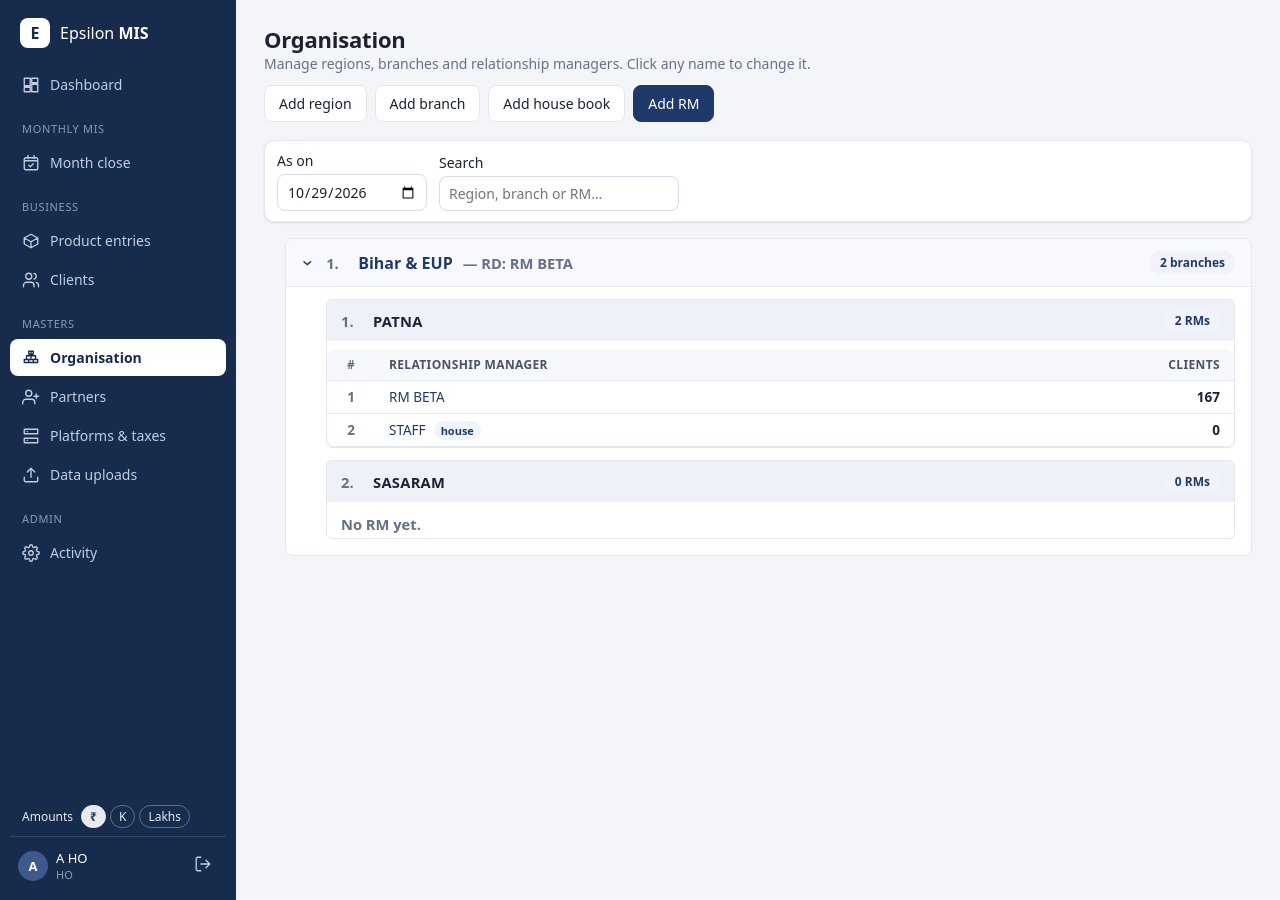
org › hands a leaving RM’s clients, partners and RD role to a new RM in one step
Click the button "RM BETA". click: click(417, 397)
box: [389,388,445,406]
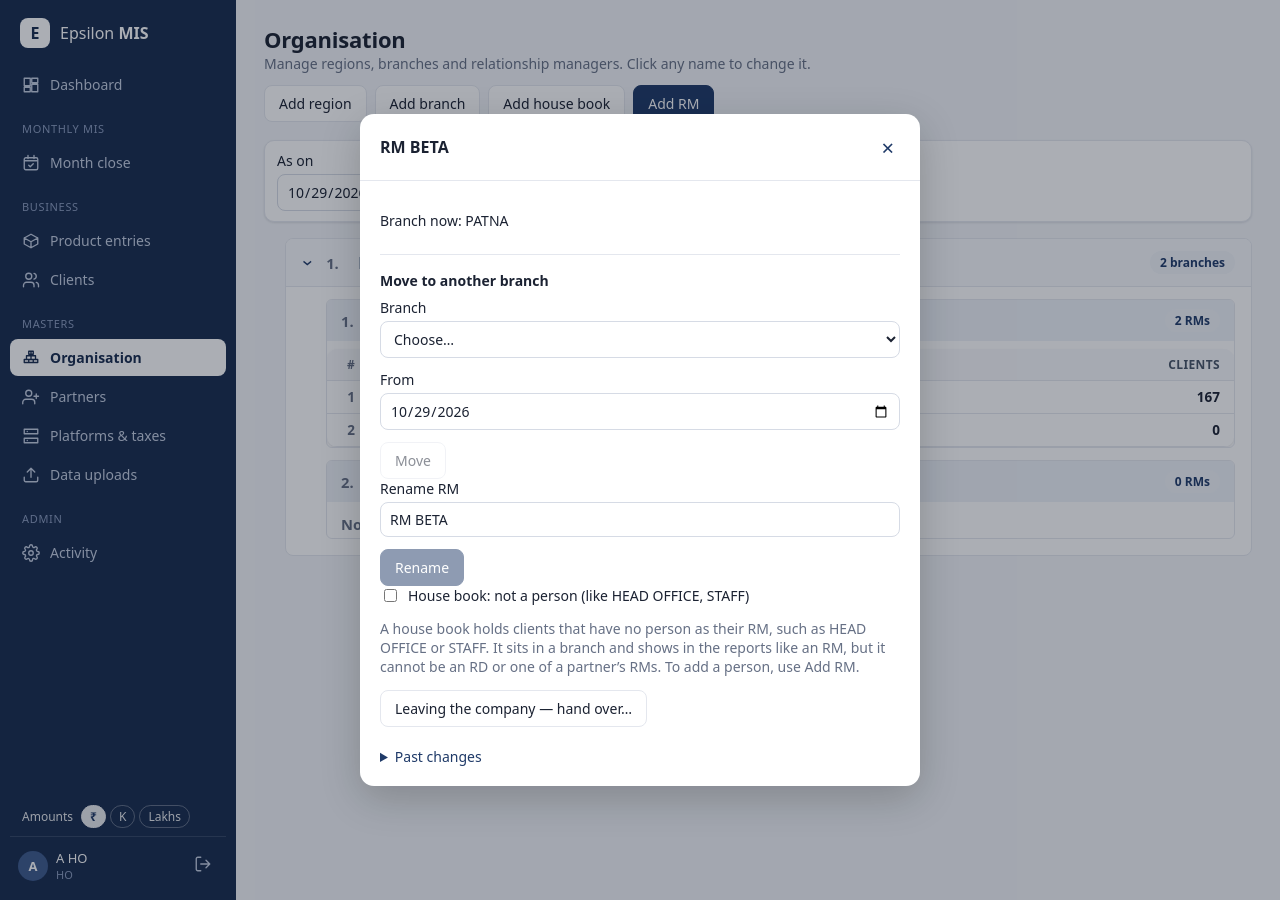
Click the button "Leaving the company — hand over…". click: click(514, 708)
box: [380,690,647,727]
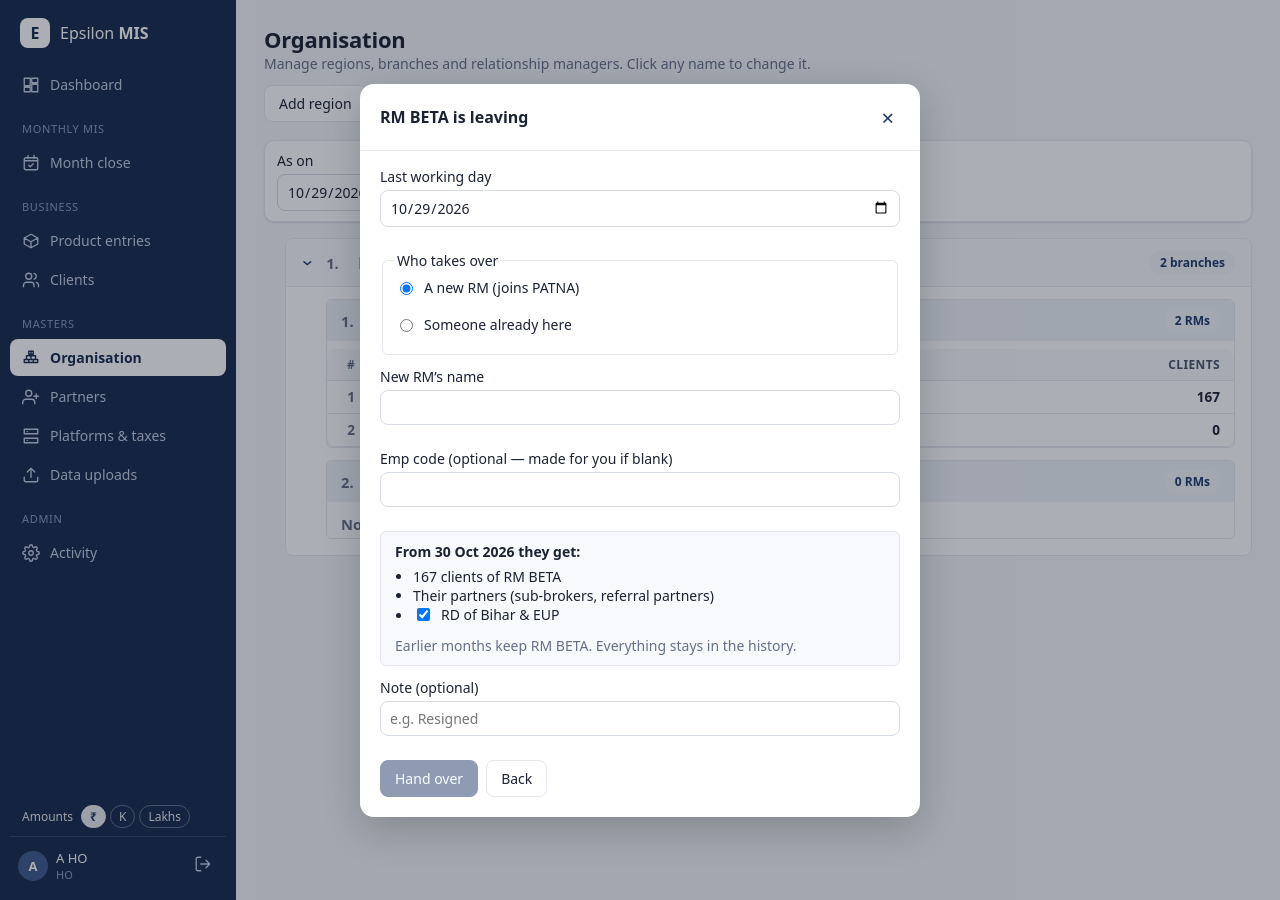
Type "2026-10-15" into the date field labelled "Last working day". click: (640, 208)
box: [380,190,900,226]
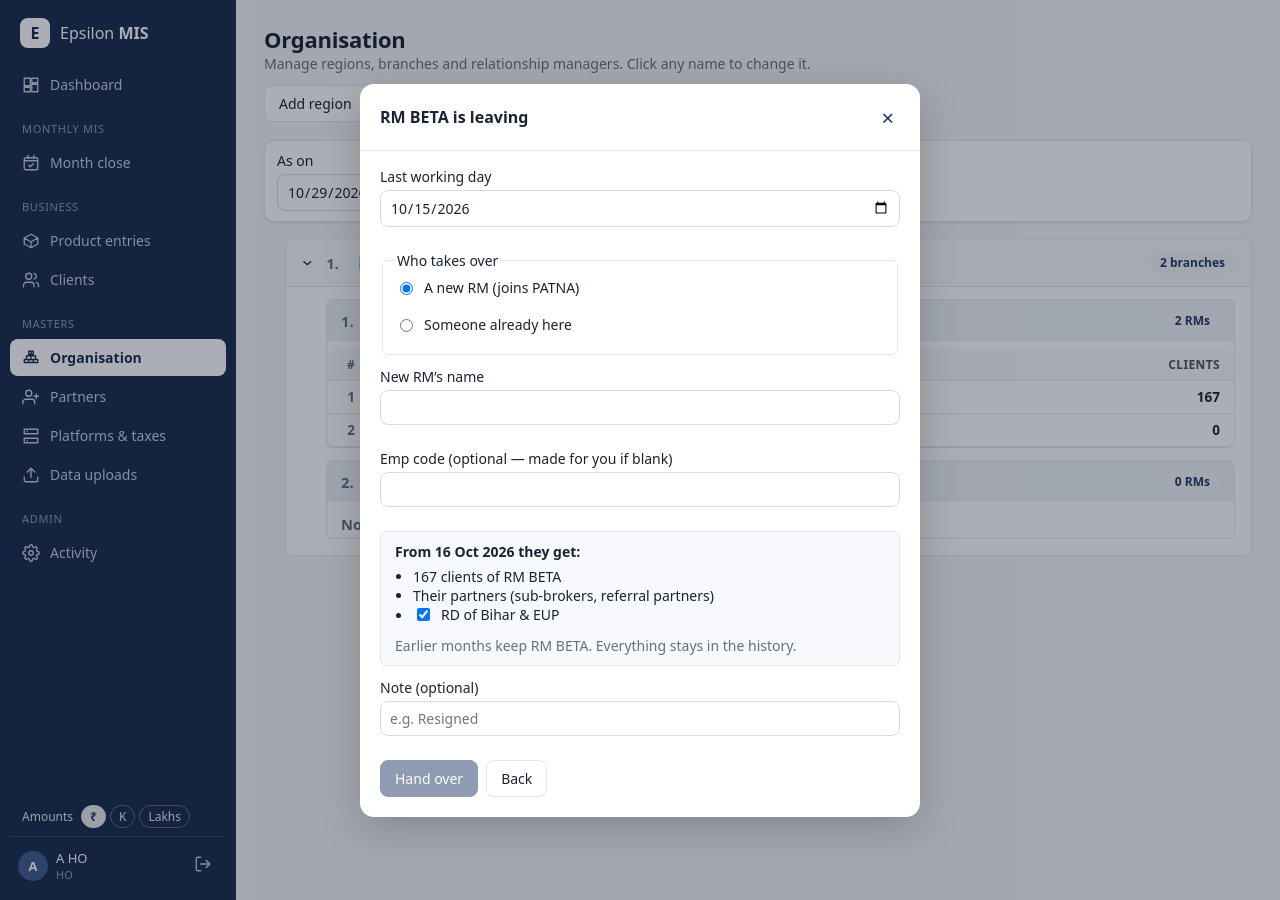
Expected: the list item "167 clients of RM BETA" is shown, [413,566,561,586]
Expected: the checkbox labelled "RD of Bihar & EUP" is checked, [417,608,430,620]
Expected: the text "From 16 Oct 2026 they get:" is shown, [395,542,580,560]
Type "NEW RM" into the field labelled "New RM’s name". click: (640, 407)
box: [380,390,900,424]
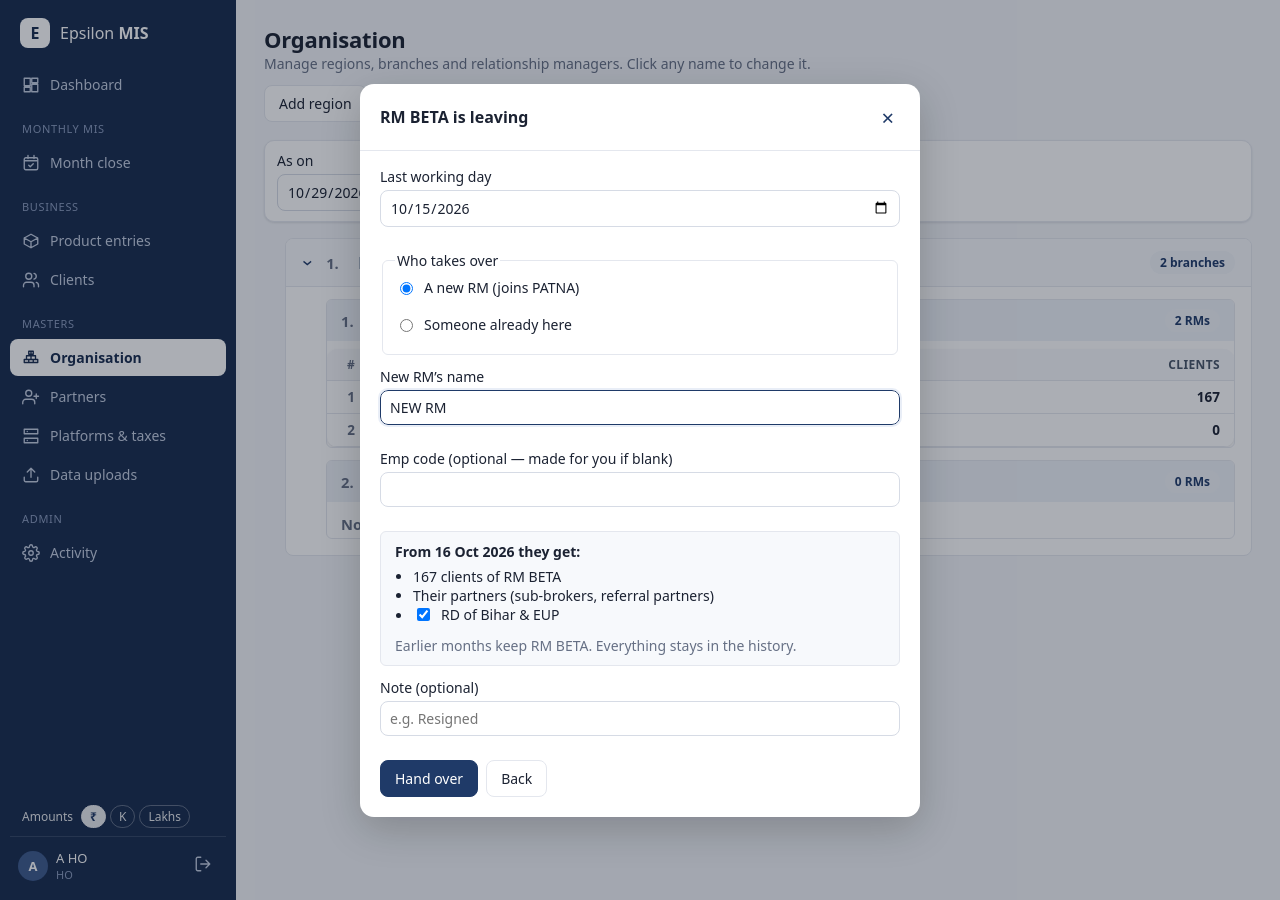
Click the button "Hand over". click: click(429, 778)
box: [380,760,478,796]
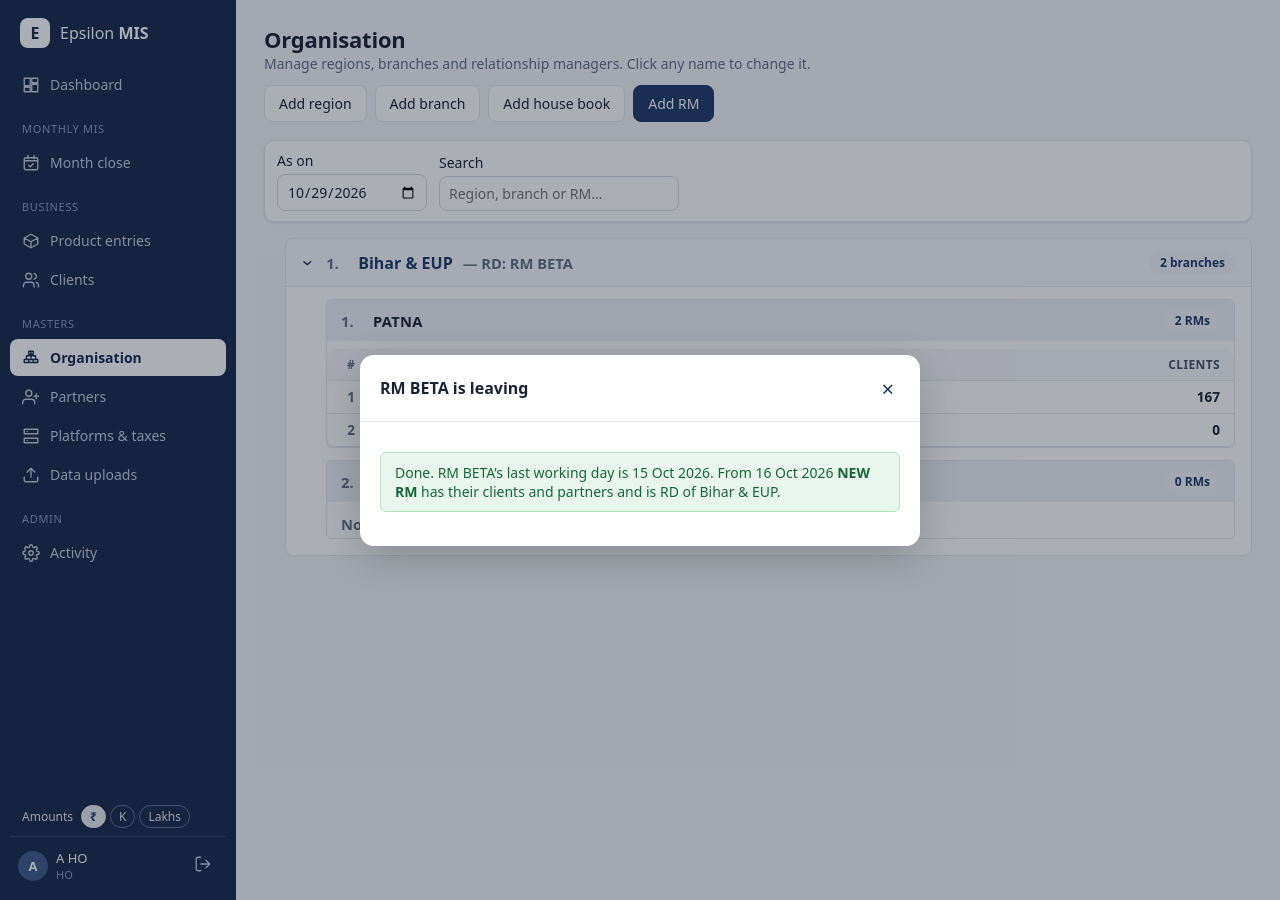
Expected: the message shows "NEW RM has their clients and partners and is RD of Bihar & EUP", [380,452,900,512]
